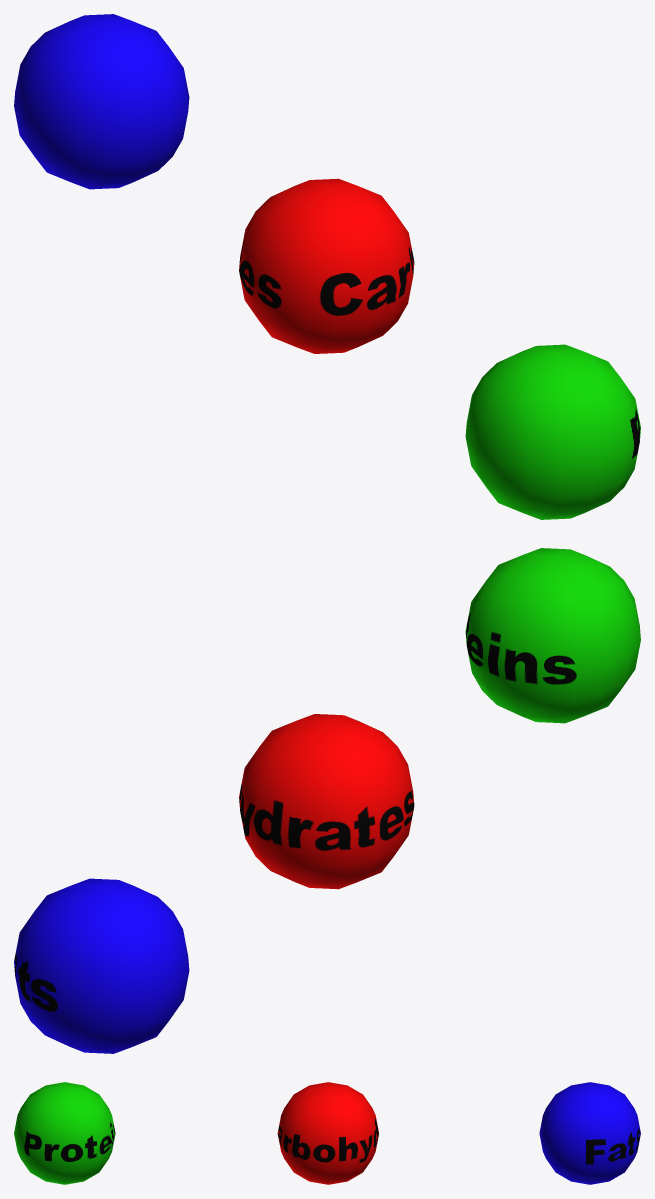
The model's file is procabfats.fbx.
3 renders of one model, top to bottom at view 1: azimuth 30°, elevation 25°; view 2: azimuth 150°, elevation 25°; view 3: azimuth 270°, elevation 25°, orthographic. The views are drawn at different scales.
Visible parts, largest first — view 1: Cube, Cube.001, Cube.002; view 2: Cube, Cube.001, Cube.002; view 3: Cube.001, Cube.002, Cube.
Part boxes in pixels (x1=…): Cube: x1=239, y1=178, x2=414, y2=353; Cube.001: x1=14, y1=14, x2=189, y2=189; Cube.002: x1=465, y1=344, x2=640, y2=519; Cube: x1=239, y1=714, x2=414, y2=889; Cube.001: x1=14, y1=878, x2=189, y2=1053; Cube.002: x1=465, y1=548, x2=640, y2=723; Cube.001: x1=539, y1=1082, x2=640, y2=1184; Cube.002: x1=14, y1=1082, x2=115, y2=1184; Cube: x1=277, y1=1082, x2=378, y2=1184.
Size of the model in its own units: 168 by 168 by 1037.
Materials: 1 (1 with a texture image).
